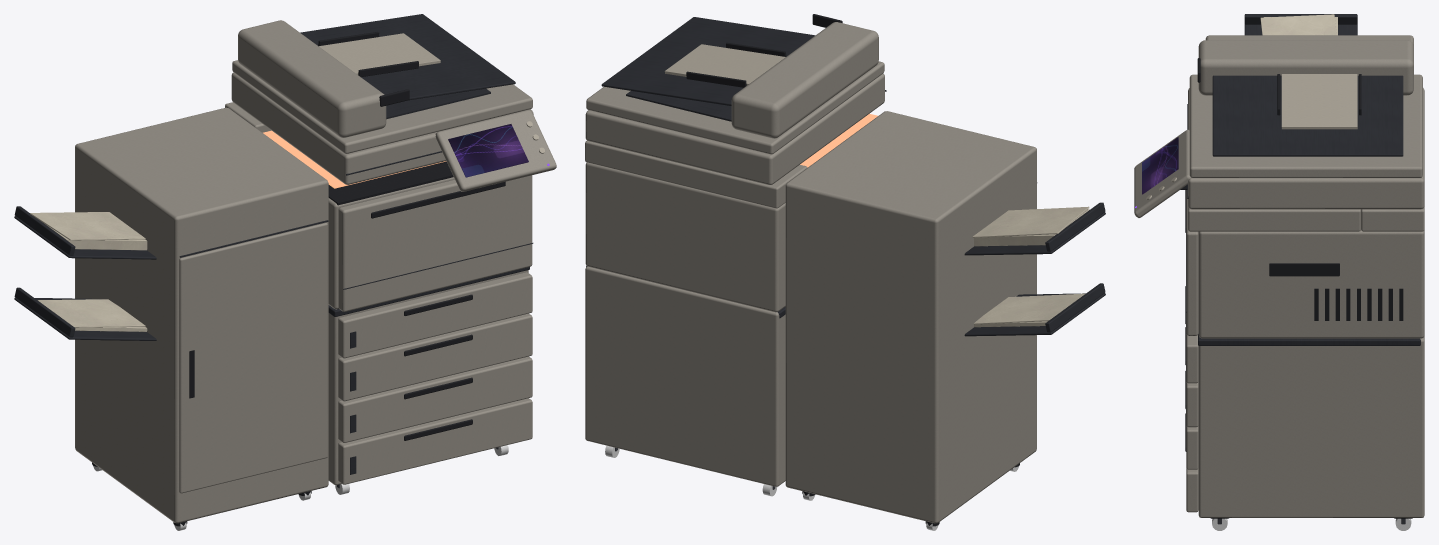
Rendered from copier.glb.
3 renders of one model, left to right at view 1: azimuth 30°, elevation 25°; view 2: azimuth 150°, elevation 25°; view 3: azimuth 270°, elevation 25°, orthographic. The views are drawn at different scales.
Visible parts, largest first — view 1: part_finisher_LOD0, part_adf_LOD0, part_front_door_LOD0, part_body_LOD0, part_tray_3_LOD0, part_tray_4_LOD0, part_tray_2_LOD0, part_tray_1_LOD0, part_panel_LOD0, part_paper_2_LOD0, part_screen_LOD0, part_paper_1_LOD0 (+2 smaller); view 2: part_finisher_LOD0, part_body_LOD0, part_adf_LOD0, part_paper_2_LOD0, part_paper_1_LOD0, part_out_tray_1_LOD0, part_out_tray_2_LOD0; view 3: part_body_LOD0, part_adf_LOD0, part_panel_LOD0, part_paper_2_LOD0, part_front_door_LOD0, part_finisher_LOD0, part_screen_LOD0, part_out_tray_2_LOD0, part_tray_4_LOD0, part_tray_3_LOD0, part_tray_1_LOD0, part_tray_2_LOD0.
Boxes of the visible parts, x1,y1,x2,y2 form: part_finisher_LOD0: (75,107,328,530); part_adf_LOD0: (232,14,532,153); part_front_door_LOD0: (338,175,533,311); part_body_LOD0: (225,72,533,494); part_tray_3_LOD0: (338,313,532,401); part_tray_4_LOD0: (338,272,532,358); part_tray_2_LOD0: (338,356,532,442); part_tray_1_LOD0: (338,398,532,484); part_panel_LOD0: (435,110,556,191); part_paper_2_LOD0: (30,212,147,250); part_screen_LOD0: (448,124,528,177); part_paper_1_LOD0: (38,299,147,331); part_finisher_LOD0: (785,111,1037,530); part_body_LOD0: (585,74,886,496); part_adf_LOD0: (586,14,884,154); part_paper_2_LOD0: (972,206,1089,246); part_paper_1_LOD0: (973,293,1085,327); part_out_tray_1_LOD0: (964,283,1105,336); part_out_tray_2_LOD0: (964,202,1105,255); part_body_LOD0: (1187,88,1424,530); part_adf_LOD0: (1189,40,1422,177); part_panel_LOD0: (1134,129,1190,217); part_paper_2_LOD0: (1260,14,1337,35); part_front_door_LOD0: (1185,190,1198,335); part_finisher_LOD0: (1205,35,1413,45); part_screen_LOD0: (1142,137,1178,194); part_out_tray_2_LOD0: (1244,14,1357,35); part_tray_4_LOD0: (1185,286,1198,383); part_tray_3_LOD0: (1185,325,1198,427); part_tray_1_LOD0: (1185,409,1198,512); part_tray_2_LOD0: (1185,366,1198,469).
Size of what is drawn, in the model's own units: 1.47 by 1.27 by 0.8221.
Materials: 14 (9 with a texture image).
